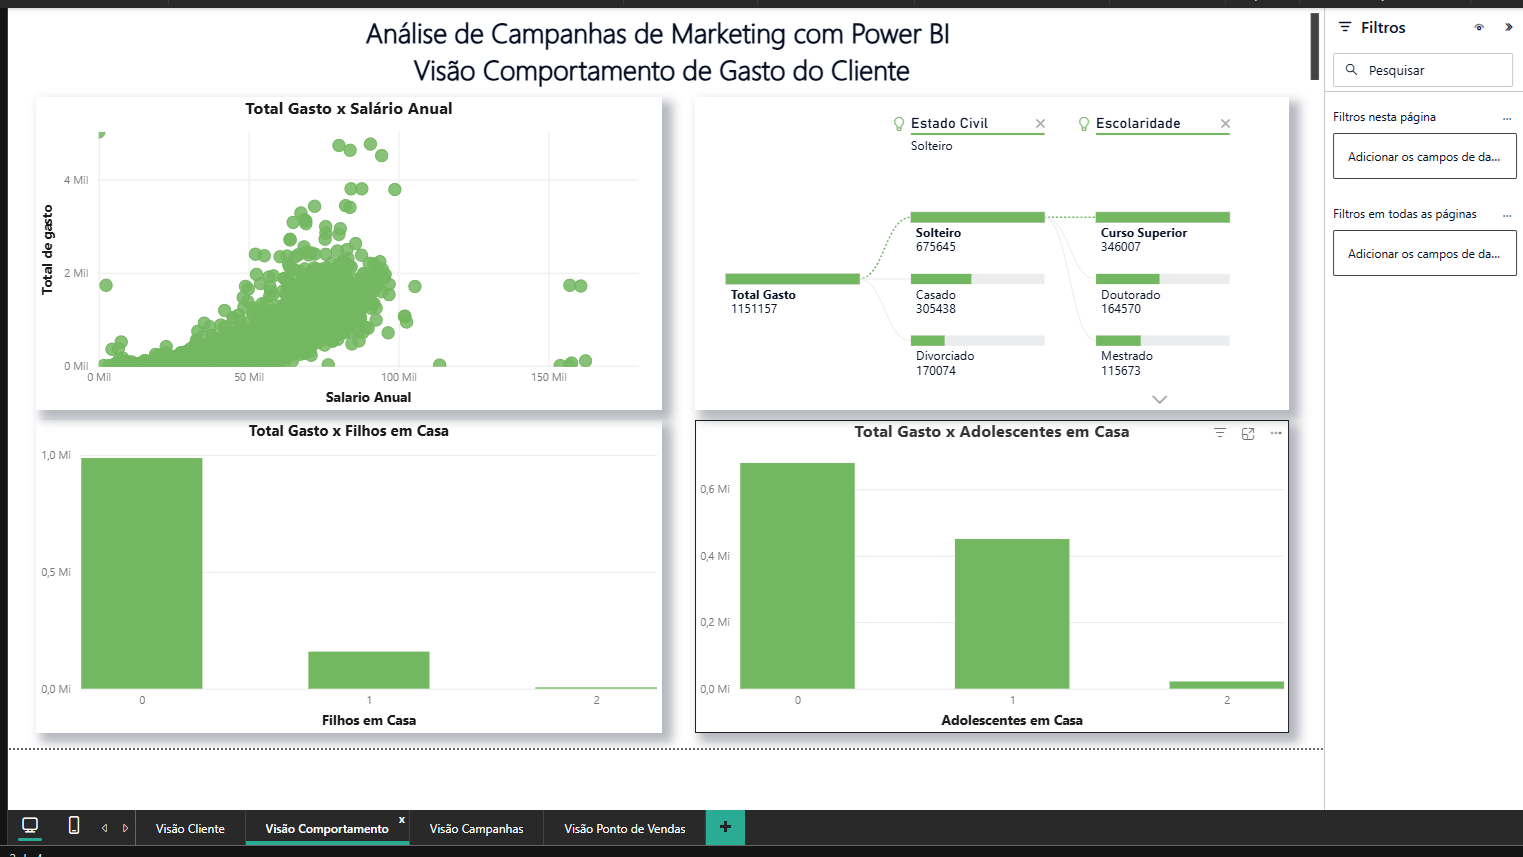

The page's visual inventory and layout, read from the dashboard file:
{"tool":"powerbi","page":{"name":"Visão Comportamento","canvas":[1280,720],"ordinal":1},"visuals":[{"type":"scatterChart","title":"Total Gasto x Salário Anual","fields":{"X":["data.Salario Anual"],"Y":["data.Total Gasto"]},"box":[27.2,86.6,608.9,304.4],"z":0},{"type":"clusteredColumnChart","title":"Total Gasto x Filhos em Casa","fields":{"Y":["data.Total Gasto"],"Category":["data.Filhos em Casa"]},"box":[27.5,401,608.7,304.3],"z":1000},{"type":"clusteredColumnChart","title":"Total Gasto x Adolescentes em Casa","fields":{"Category":["data.Adolescentes em Casa"],"Y":["data.Total Gasto"]},"box":[668,401,577.9,304.3],"z":2000},{"type":"textbox","box":[0,0,1280,86.8],"z":3000},{"type":"decompositionTreeVisual","fields":{"Analyze":["data.Total Gasto"],"ExplainBy":["data.Estado Civil","data.Escolaridade"]},"box":[668.2,86.6,577.8,304.4],"z":4000}]}

Visuals, with their boxes on the page's 1280x720 design canvas (x1, y1, x2, y2). These are canvas units, not pixel positions in the 1523x857 screenshot, which may show the page scaled, cropped or inside an application window:
"Total Gasto x Salário Anual" scatterChart: 27/87/636/391
"Total Gasto x Filhos em Casa" clusteredColumnChart: 28/401/636/705
"Total Gasto x Adolescentes em Casa" clusteredColumnChart: 668/401/1246/705
textbox: 0/0/1280/87
decompositionTreeVisual - data.Total Gasto x data.Estado Civil: 668/87/1246/391
